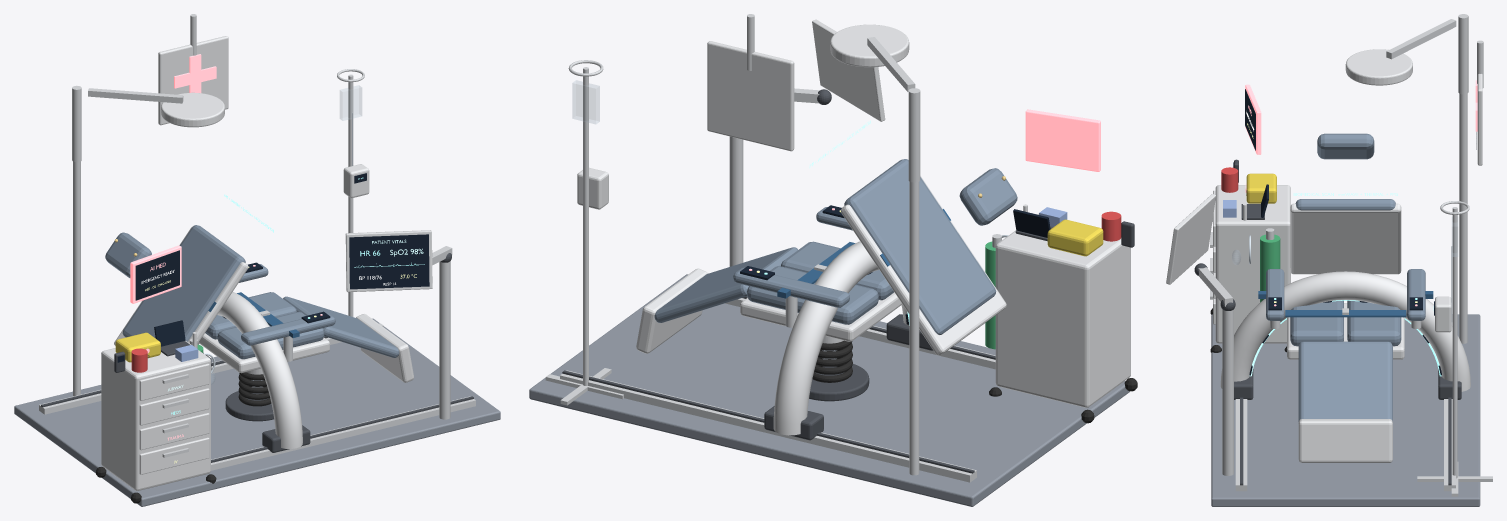
The model's file is medical_scanner.glb.
3 views of the same model, side by side, from view 1: azimuth 30°, elevation 25°; view 2: azimuth 150°, elevation 25°; view 3: azimuth 270°, elevation 25° (orthographic). The views are drawn at different scales.
Parts seen in each view (by area): view 1: Arch_Carriage, Pad_Button, IV_Bag; view 2: Arch_Carriage, Pad_Button, IV_Bag; view 3: Arch_Carriage, Pad_Button, Arch_Label.
Boxes of the visible parts, left/top/right/bottom form: Arch_Carriage: left=14, top=14, right=500, bottom=506; Pad_Button: left=130, top=54, right=424, bottom=440; IV_Bag: left=211, top=85, right=361, bottom=384; Arch_Carriage: left=529, top=14, right=1137, bottom=506; Pad_Button: left=749, top=109, right=1100, bottom=274; IV_Bag: left=572, top=80, right=599, bottom=123; Arch_Carriage: left=1166, top=14, right=1492, bottom=506; Pad_Button: left=1245, top=80, right=1477, bottom=310; Arch_Label: left=1249, top=193, right=1441, bottom=376.
Bounding box in the file's own units: 2.7 × 2.45 × 1.94.
7 materials, 7 textured.
